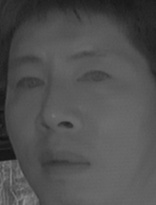eye: (77, 66, 116, 88), (11, 72, 45, 94)
mouth: (33, 145, 92, 178)
